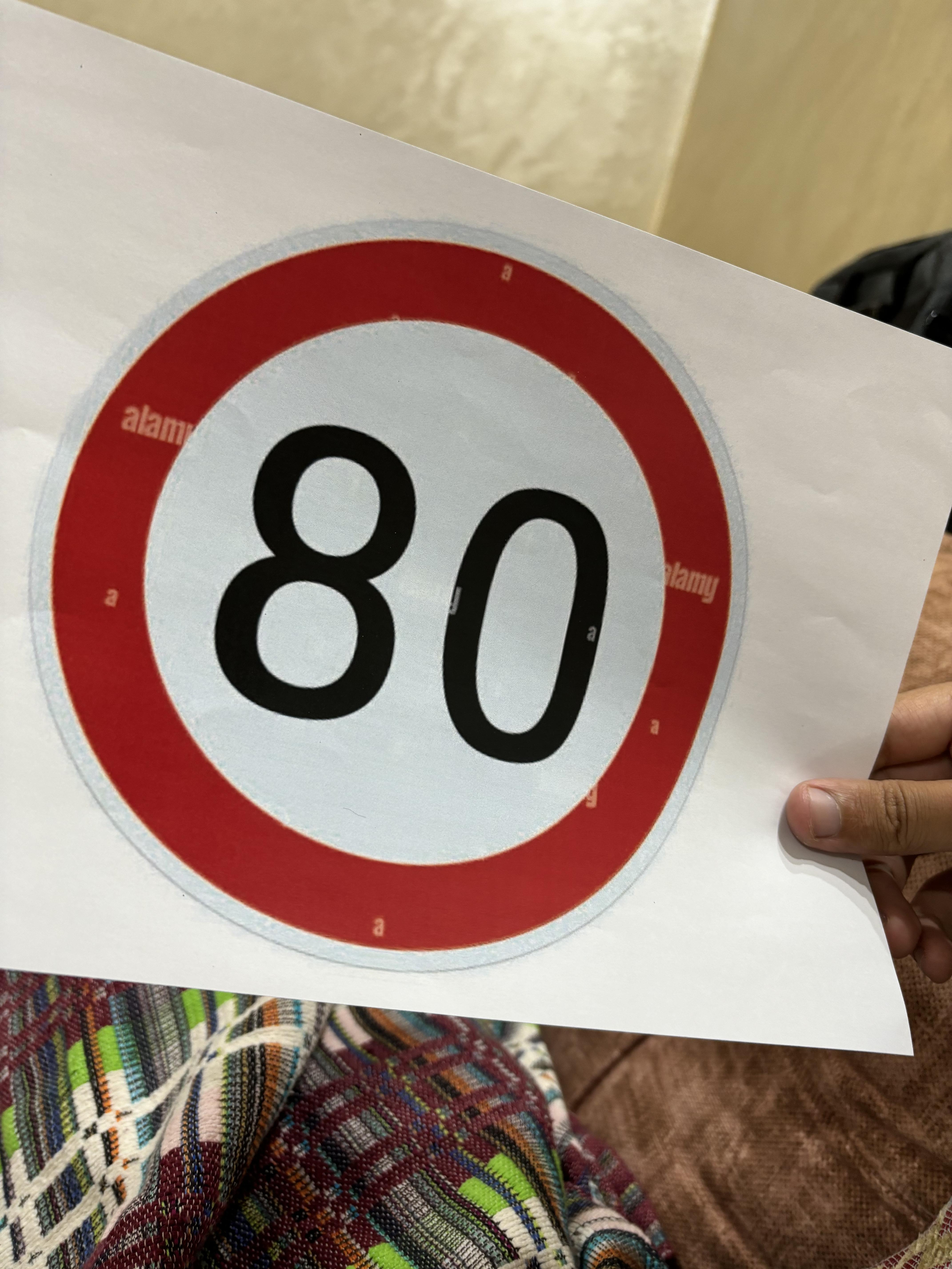80-Speed: (32, 214, 758, 988)
